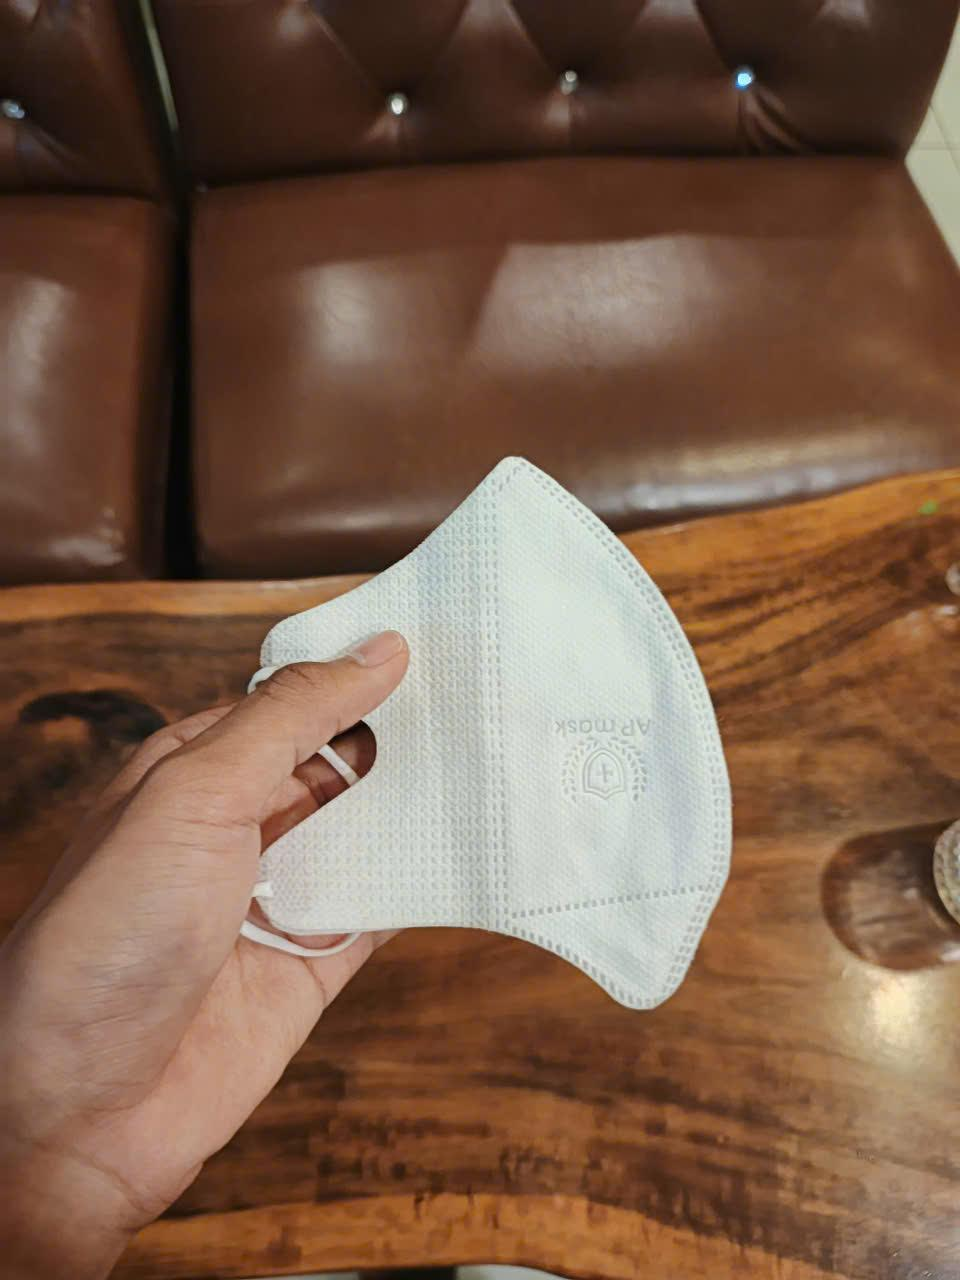Con lai: (250, 447, 732, 1019)
